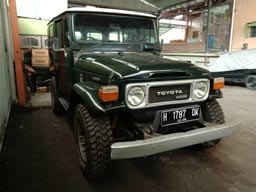plat: (161, 107, 201, 124)
